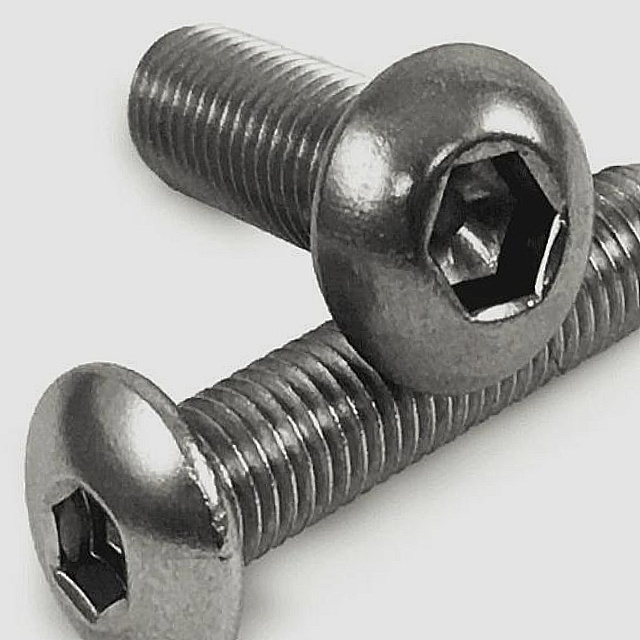allen: (416, 140, 572, 322), (46, 483, 134, 630)
